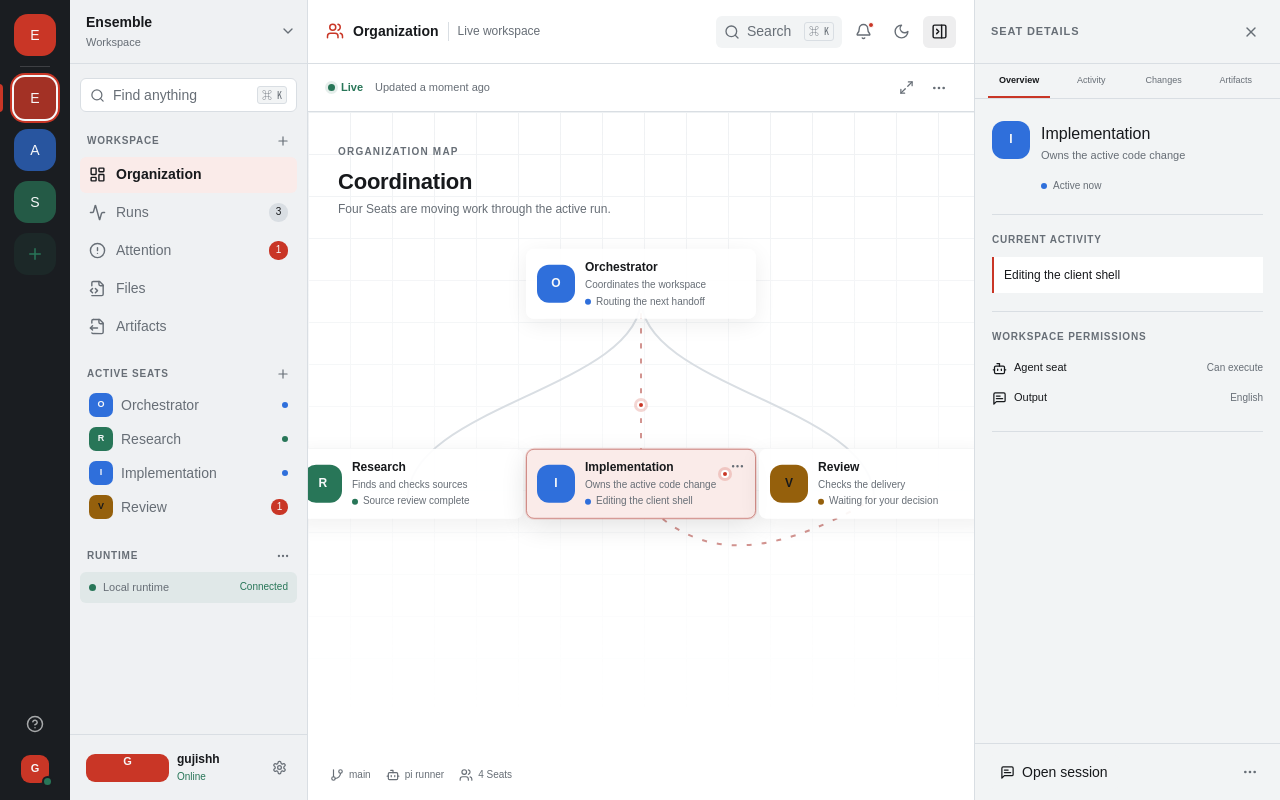
Test: DiscordUiPreview output inspection › opens an interactive Seat session and deep-links its Change Set
Click the button "Implementation Owns". click: (641, 484)
box: [526,448,756,519]
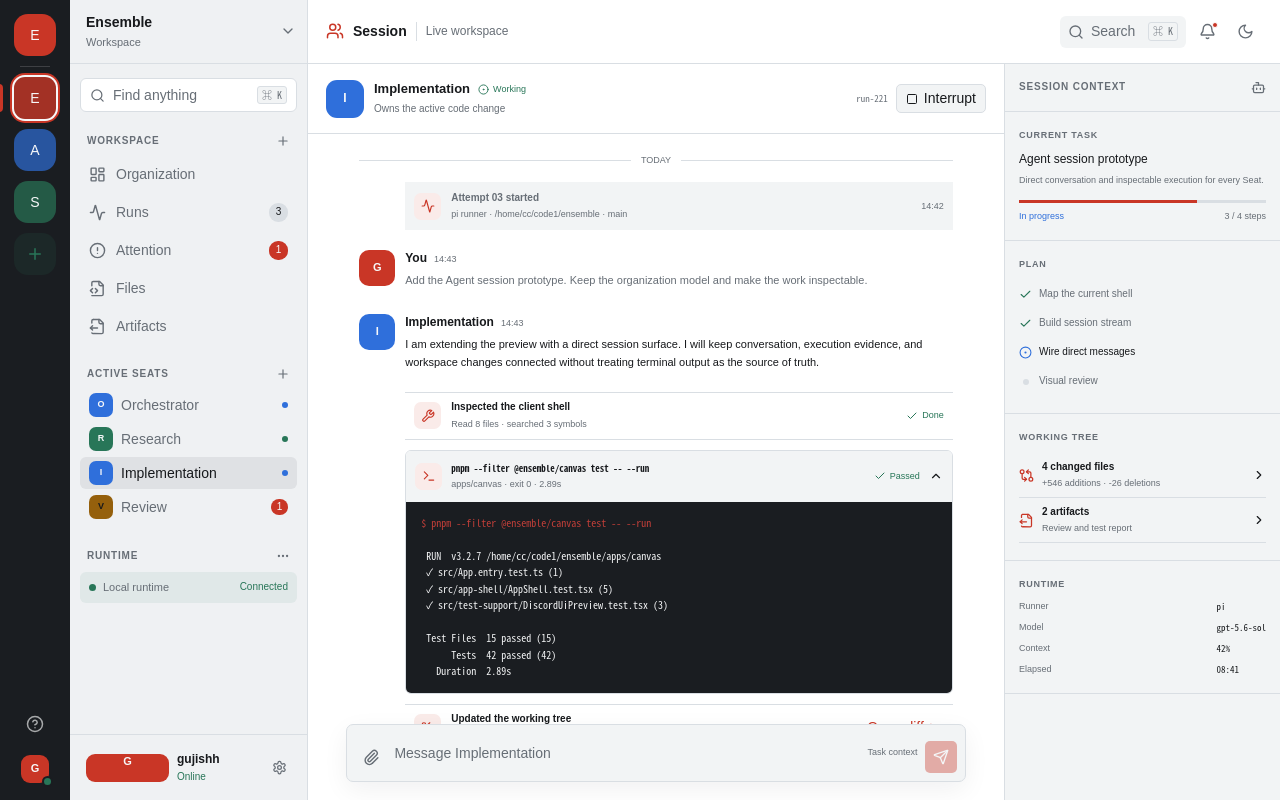
Now the element named "Implementation session" is shown, box [308,64,1004,799]
Now the text box labelled "Message Implementation" is shown, box [394,743,861,763]
Now the element with class "dui-session-terminal" shows "Test Files 15 passed", box [421,548,668,678]
Click the button "4 changed files +546 additions · -26 deletions". click: (1142, 476)
box: [1019,453,1266,498]
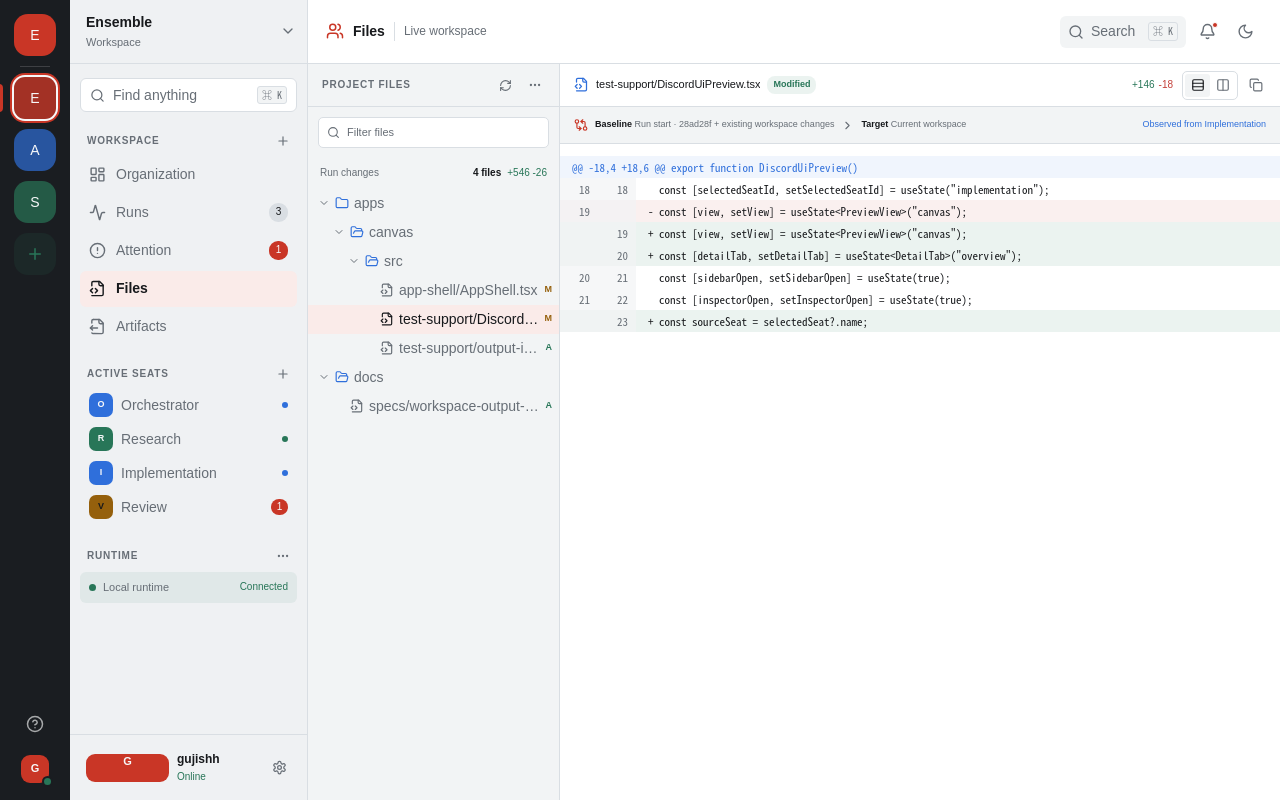
Now the text "Observed from Implementation" is shown, box [1142,118,1266,132]
